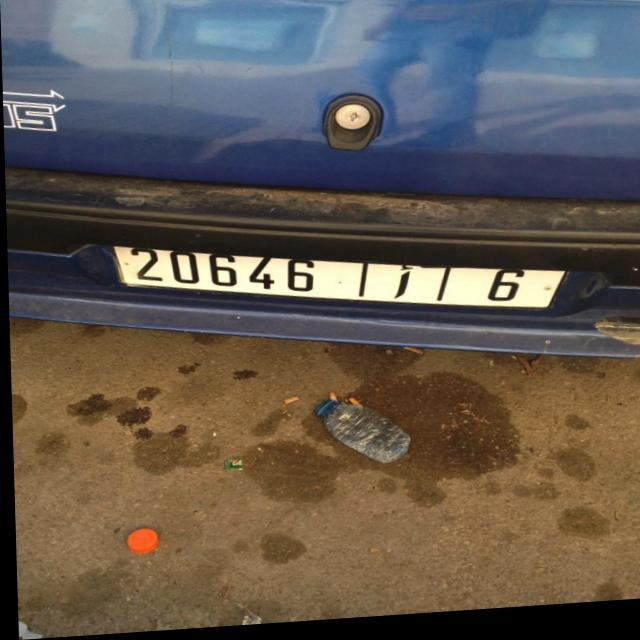License-Plate: (113, 249, 562, 316)
